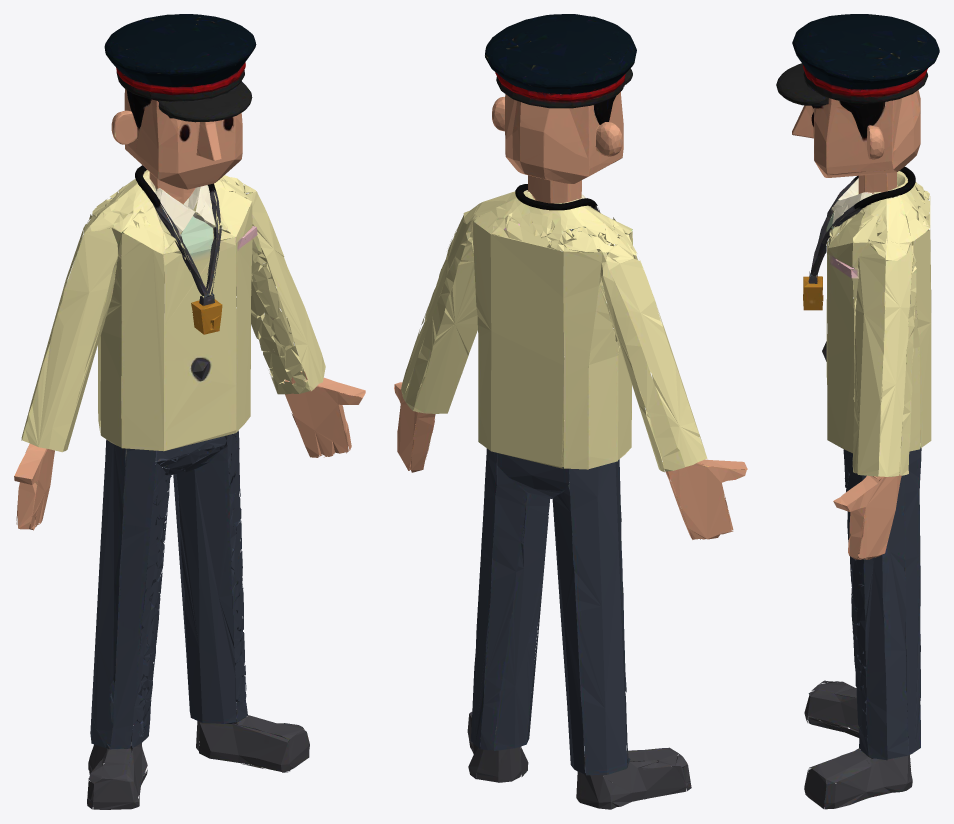
The model's file is habitant.glb.
The picture shows the model from 3 angles, left to right: view 1: azimuth 30°, elevation 25°; view 2: azimuth 150°, elevation 25°; view 3: azimuth 270°, elevation 25°; orthographic projection. The views are drawn at different scales.
Visible parts, largest first — view 1: world; view 2: world; view 3: world.
Boxes of the visible parts, x1,y1,x2,y2 form: world: [14, 14, 365, 809]; world: [394, 14, 747, 809]; world: [776, 14, 939, 809].
Bounding box in the file's own units: 0.5021 × 1 × 0.2054.
1 material, 1 textured.
